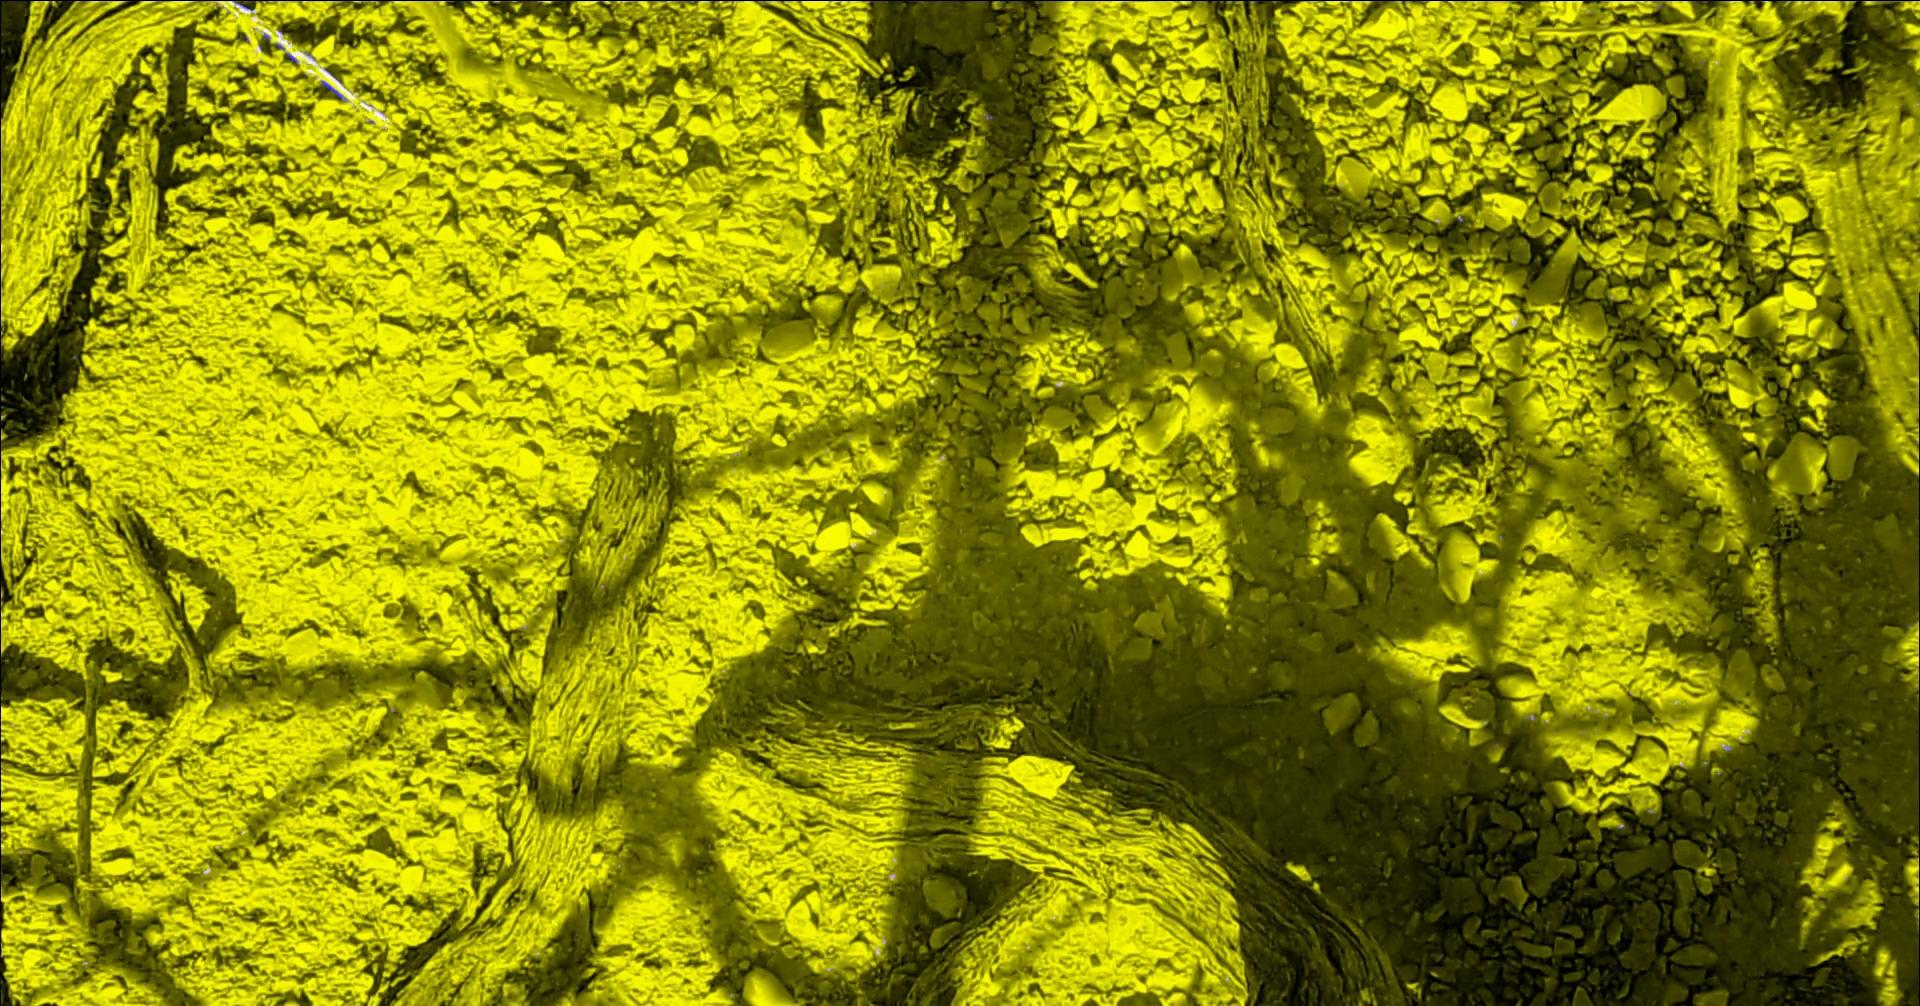ant: (232, 0, 267, 10)
